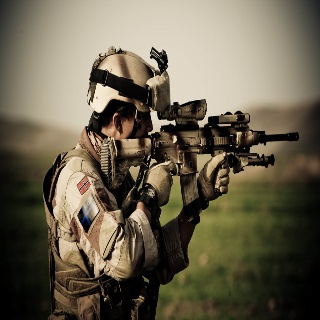rifle: (97, 98, 302, 215)
